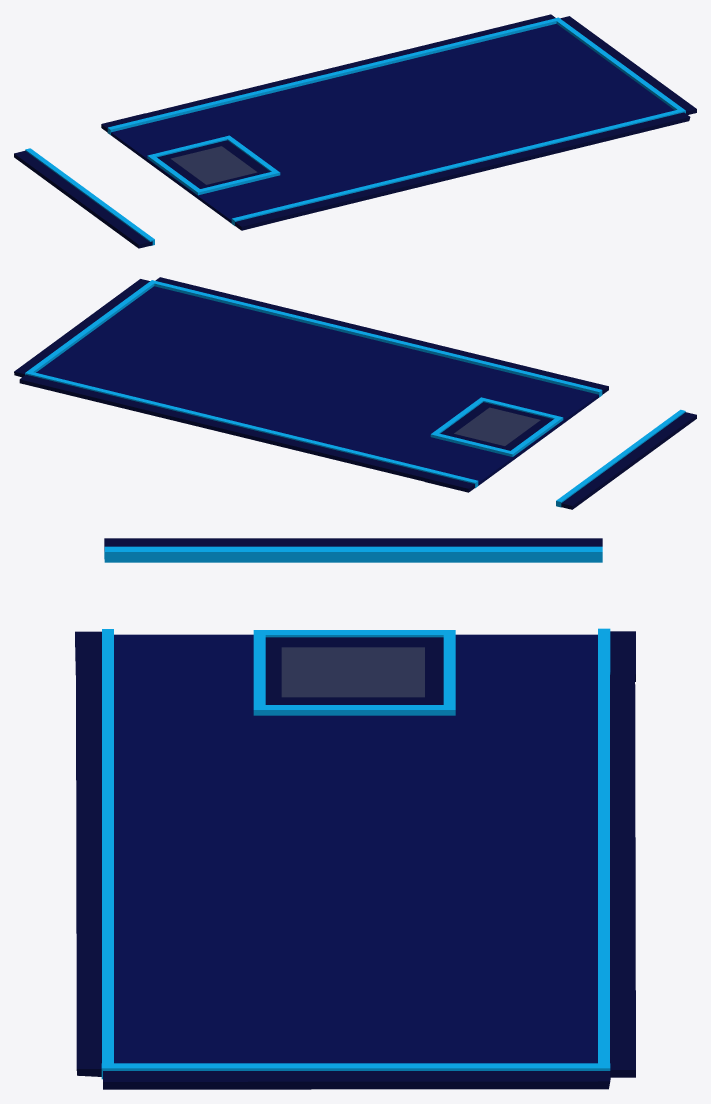
File: field_for_GAS 1.fbx
3 views of the same model, one above another, from view 1: azimuth 30°, elevation 25°; view 2: azimuth 150°, elevation 25°; view 3: azimuth 270°, elevation 25° (orthographic). The views are drawn at different scales.
Parts seen in each view (by area): view 1: Cube.014, Cube.006, Cube.008, Cube.001, Cube.015, Cube, Cube.011, Cube.004, Cube.002, Cube.003; view 2: Cube.014, Cube.008, Cube.006, Cube.001, Cube.015, Cube, Cube.011, Cube.003, Cube.002, Cube.004; view 3: Cube.014, Cube.006, Cube.008, Cube.001, Cube.015, Cube, Cube.011, Cube.002, Cube.004, Cube.003, Cube.000, Cube.005 (+1 smaller).
Boxes of the visible parts, x1,y1,x2,y2 form: Cube.014: [111, 23, 674, 223]; Cube.006: [267, 109, 690, 220]; Cube.008: [145, 14, 560, 123]; Cube.001: [14, 148, 203, 248]; Cube.015: [554, 16, 696, 114]; Cube: [171, 146, 257, 184]; Cube.011: [224, 135, 280, 174]; Cube.004: [231, 209, 285, 230]; Cube.002: [195, 171, 279, 193]; Cube.003: [101, 113, 149, 135]; Cube.014: [36, 286, 598, 485]; Cube.008: [19, 371, 440, 481]; Cube.006: [154, 277, 566, 386]; Cube.001: [507, 409, 696, 509]; Cube.015: [14, 279, 156, 377]; Cube: [454, 407, 540, 445]; Cube.011: [430, 397, 494, 438]; Cube.003: [424, 471, 478, 492]; Cube.002: [483, 398, 562, 423]; Cube.004: [559, 375, 608, 397]; Cube.014: [114, 634, 597, 1063]; Cube.006: [76, 662, 113, 1076]; Cube.008: [598, 665, 635, 1077]; Cube.001: [104, 538, 602, 647]; Cube.015: [101, 1063, 610, 1089]; Cube: [281, 647, 424, 697]; Cube.011: [253, 696, 455, 715]; Cube.002: [253, 630, 291, 704]; Cube.004: [75, 629, 113, 674]; Cube.003: [598, 628, 635, 681]; Cube.000: [418, 634, 455, 668]; Cube.005: [425, 661, 455, 695].
Bounding box in the file's own units: 4124 × 41.4 × 1799.
